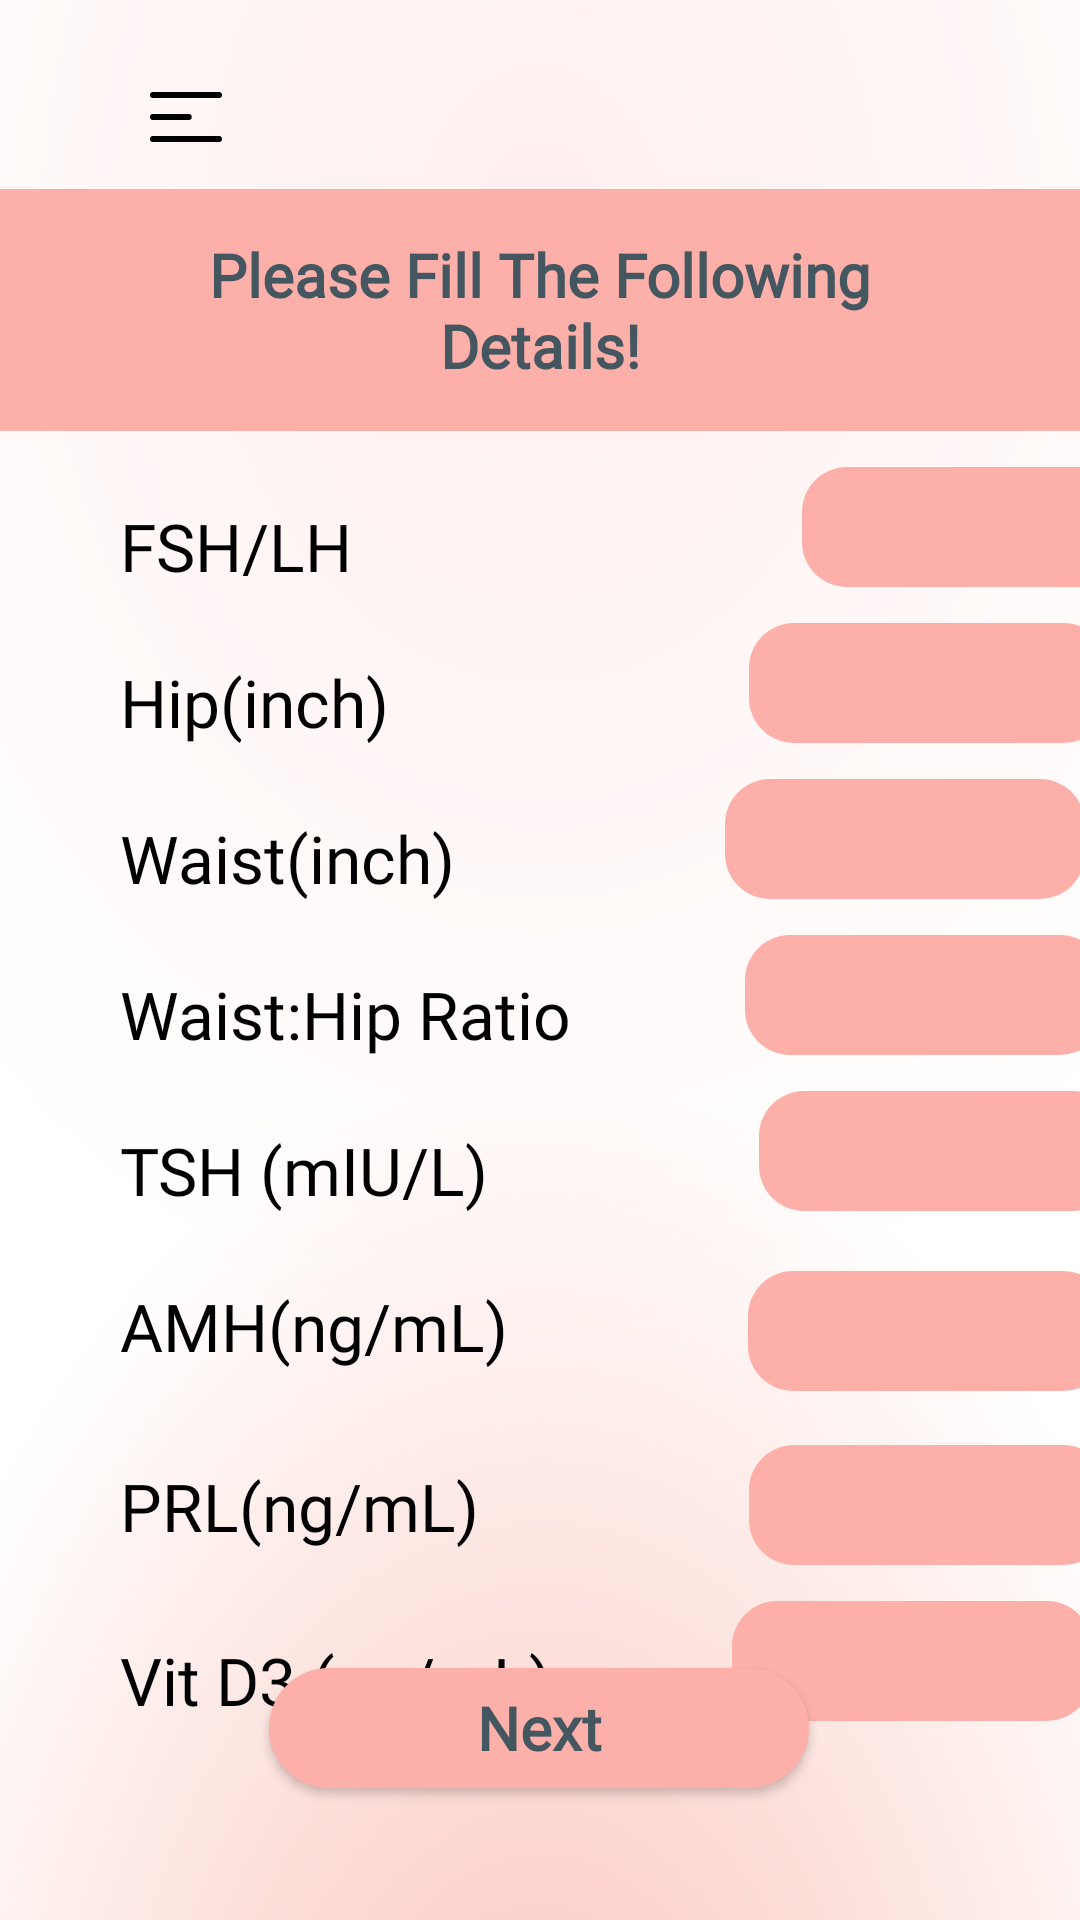

Where to tap for icons on this 1080 x 1920 app screen, as point (x, y):
hamburger: point (186, 117)
